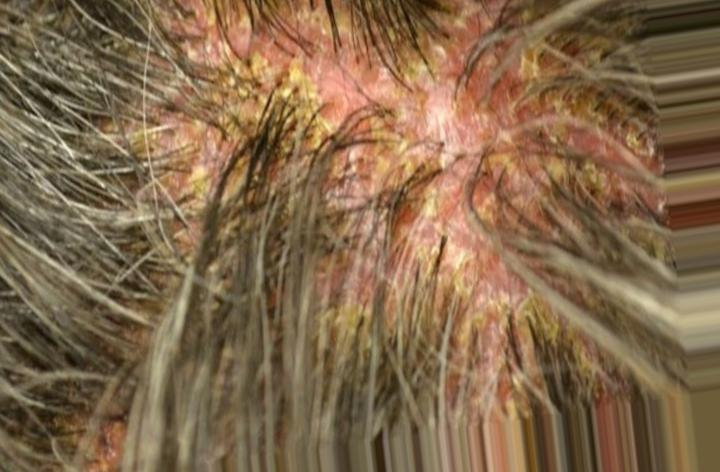Folliculitis: (179, 29, 560, 266)
